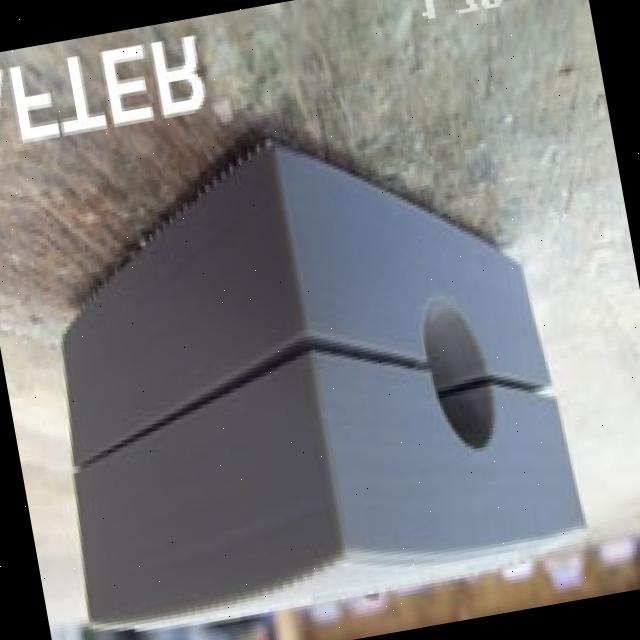cracks: (124, 270, 440, 452), (466, 348, 568, 422)
